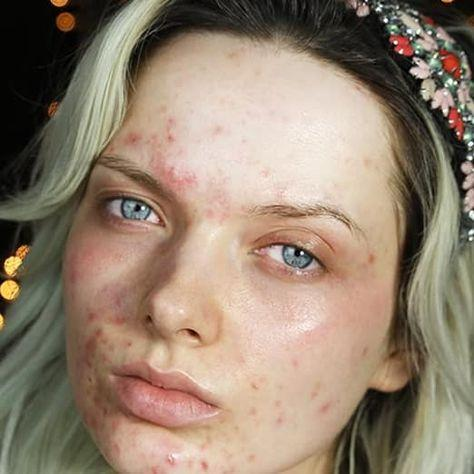Acne: (149, 144, 205, 196), (131, 112, 180, 152), (139, 439, 192, 474), (81, 321, 119, 356)
